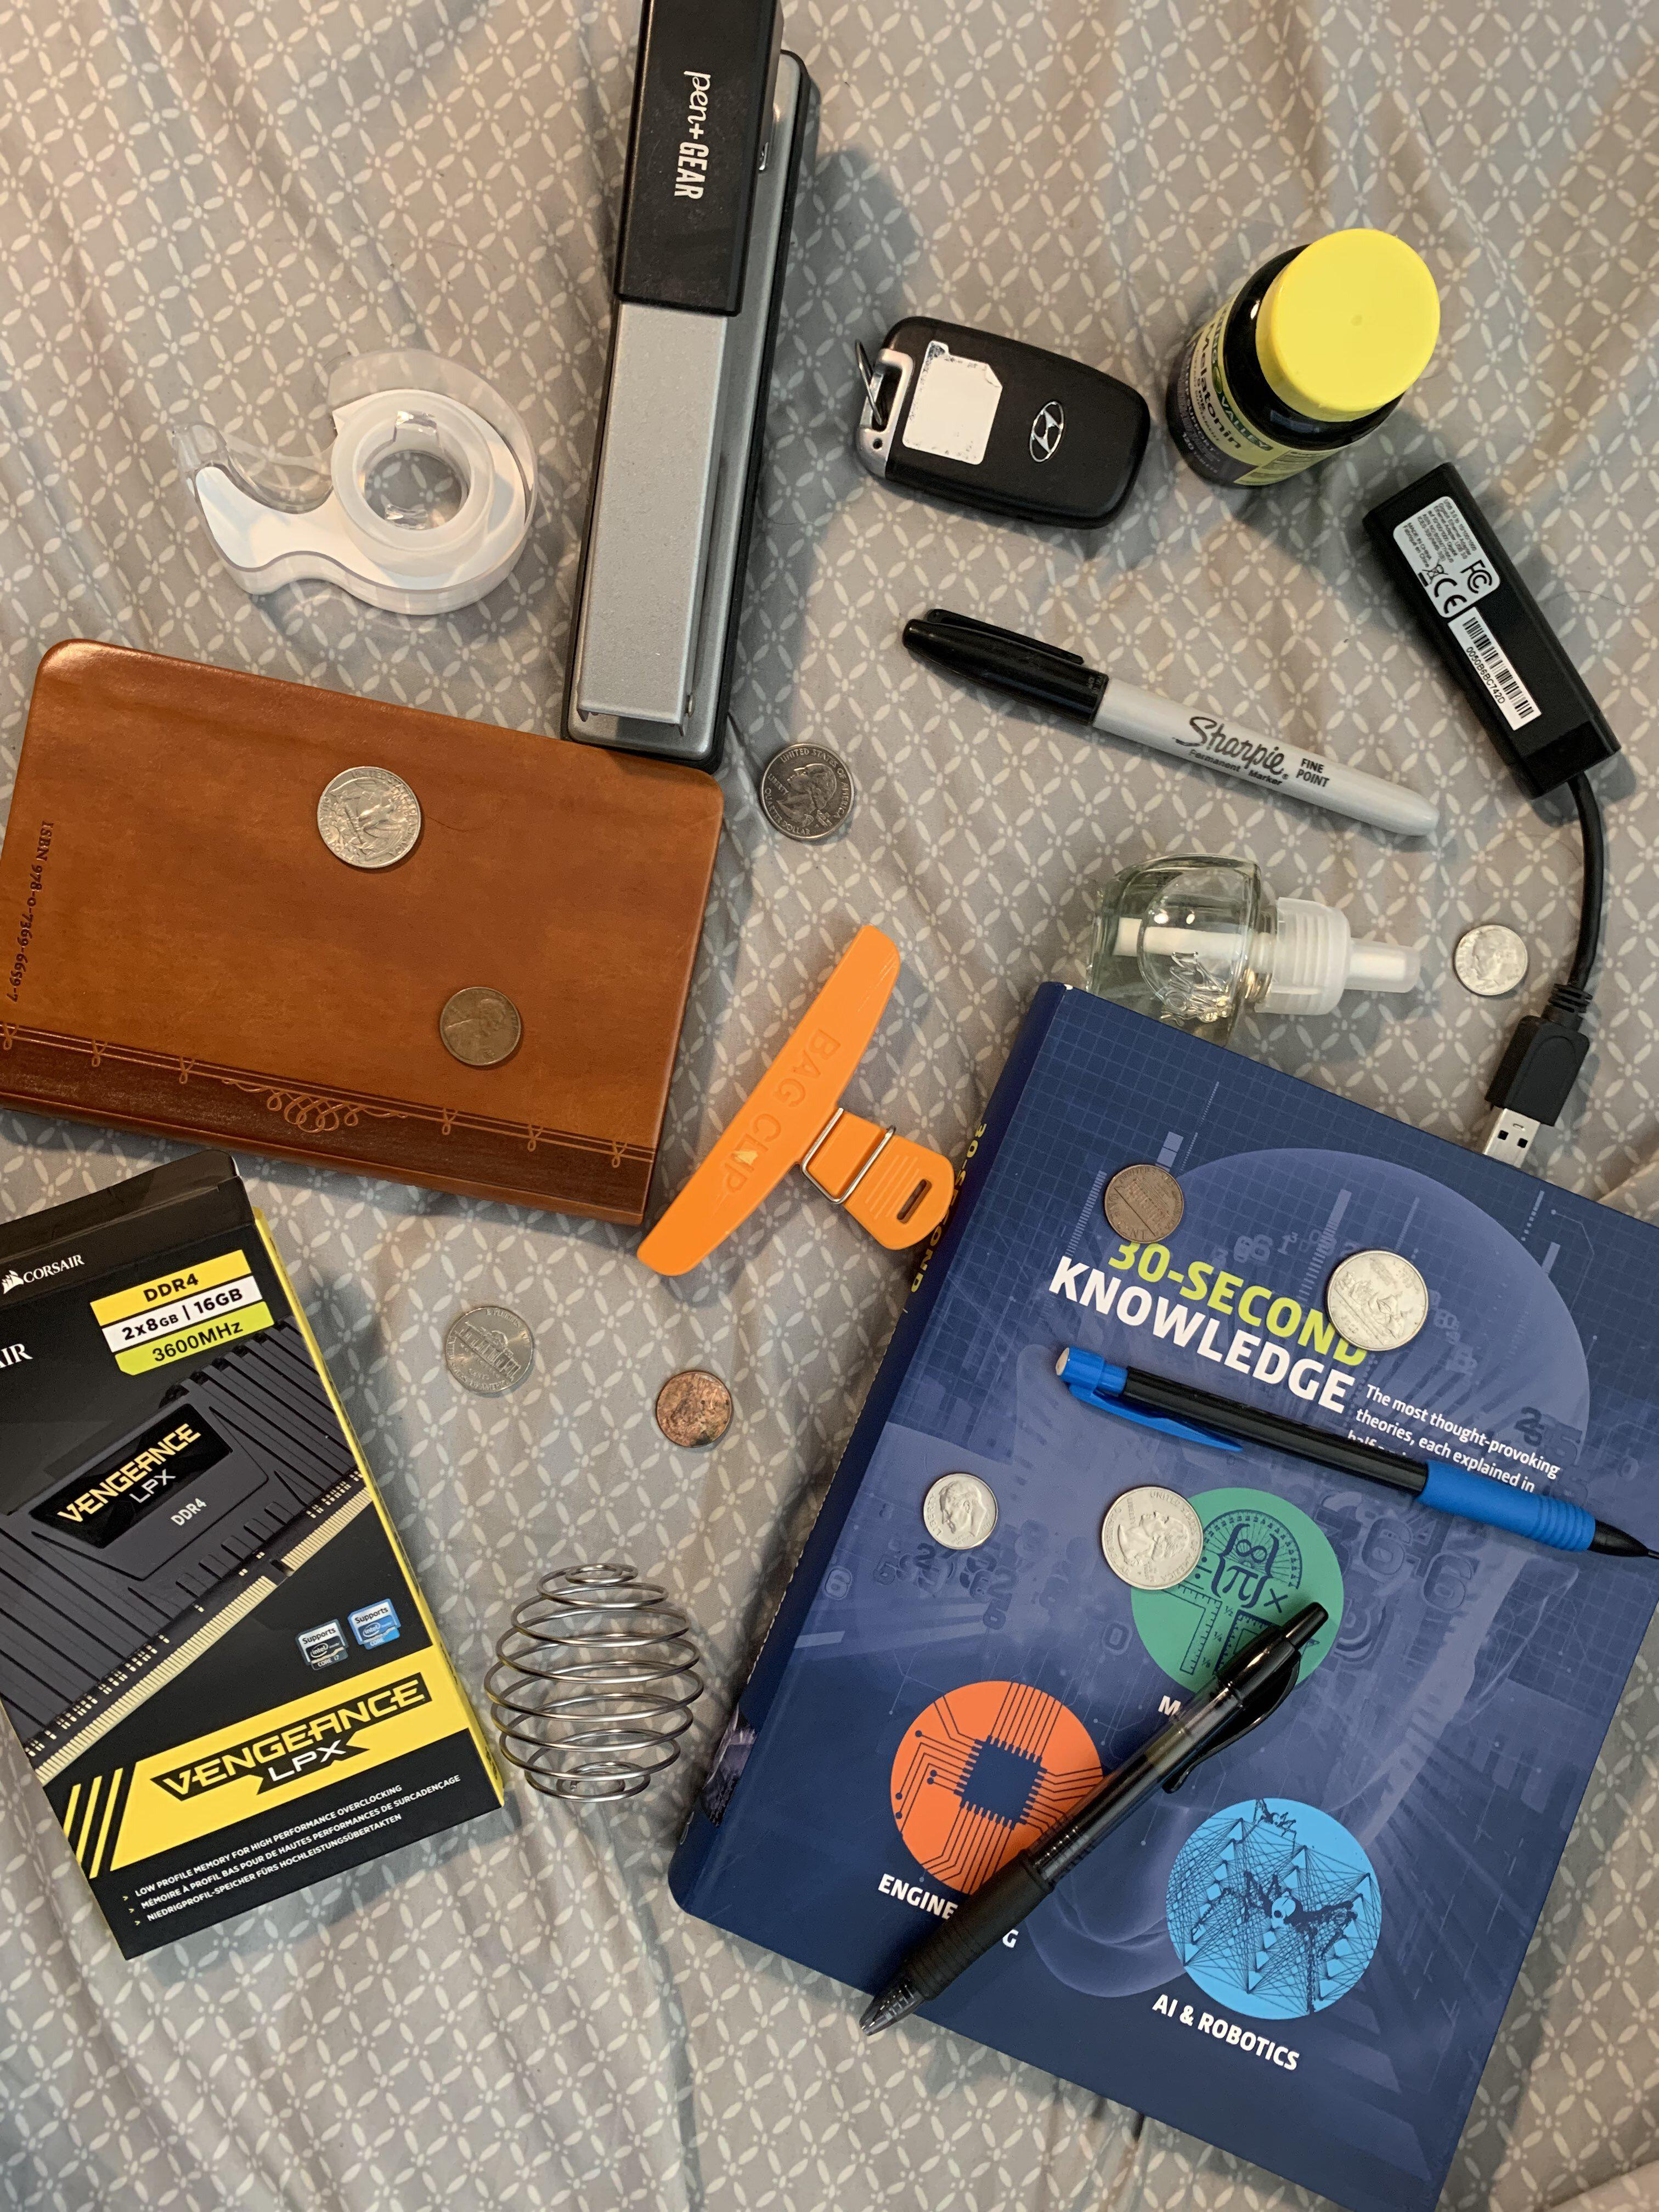Dime: (903, 1460, 1021, 1564), (1441, 907, 1541, 1005)
Nickel: (429, 1294, 561, 1409)
Penny: (1086, 1151, 1208, 1263), (420, 970, 542, 1082), (645, 1357, 751, 1461)
Quarter: (1302, 1223, 1452, 1386), (734, 728, 892, 860), (303, 744, 443, 885), (1080, 1467, 1218, 1599)
